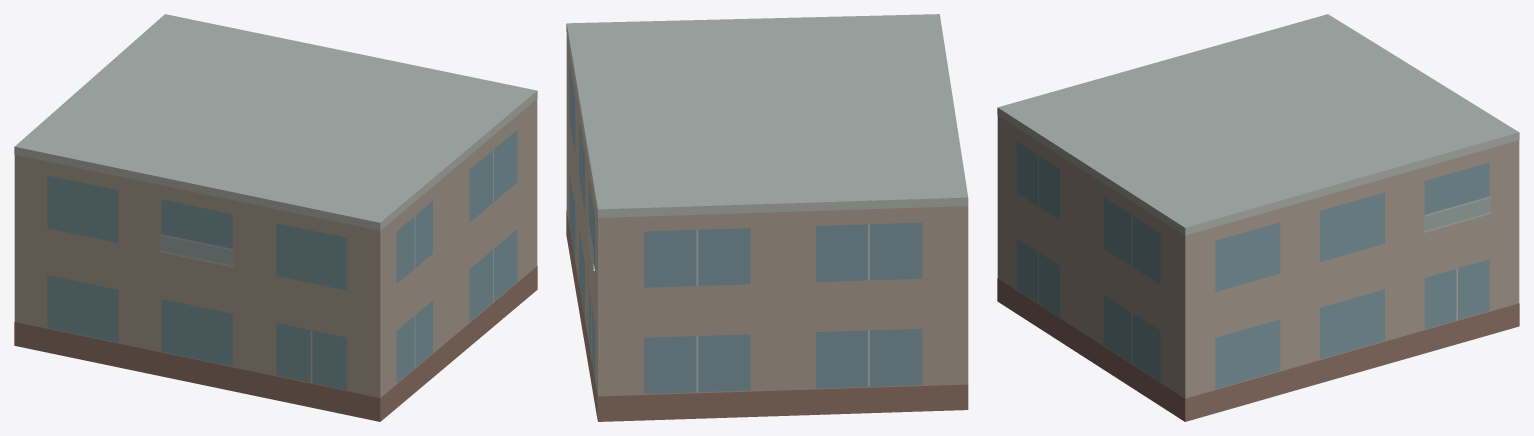
File: survey-upis-32900558.glb
The picture shows the model from 3 angles, left to right: view 1: azimuth 30°, elevation 25°; view 2: azimuth 150°, elevation 25°; view 3: azimuth 270°, elevation 25°; orthographic projection. The views are drawn at different scales.
Parts seen in each view (by area): view 1: survey-upis-32900558.tmp; view 2: survey-upis-32900558.tmp; view 3: survey-upis-32900558.tmp.
Boxes of the visible parts, bbox=[...] form: survey-upis-32900558.tmp: bbox=[14, 14, 537, 421]; survey-upis-32900558.tmp: bbox=[566, 14, 968, 421]; survey-upis-32900558.tmp: bbox=[997, 14, 1519, 421].
Size of the model in its own units: 14.43 by 6.1 by 14.88.
